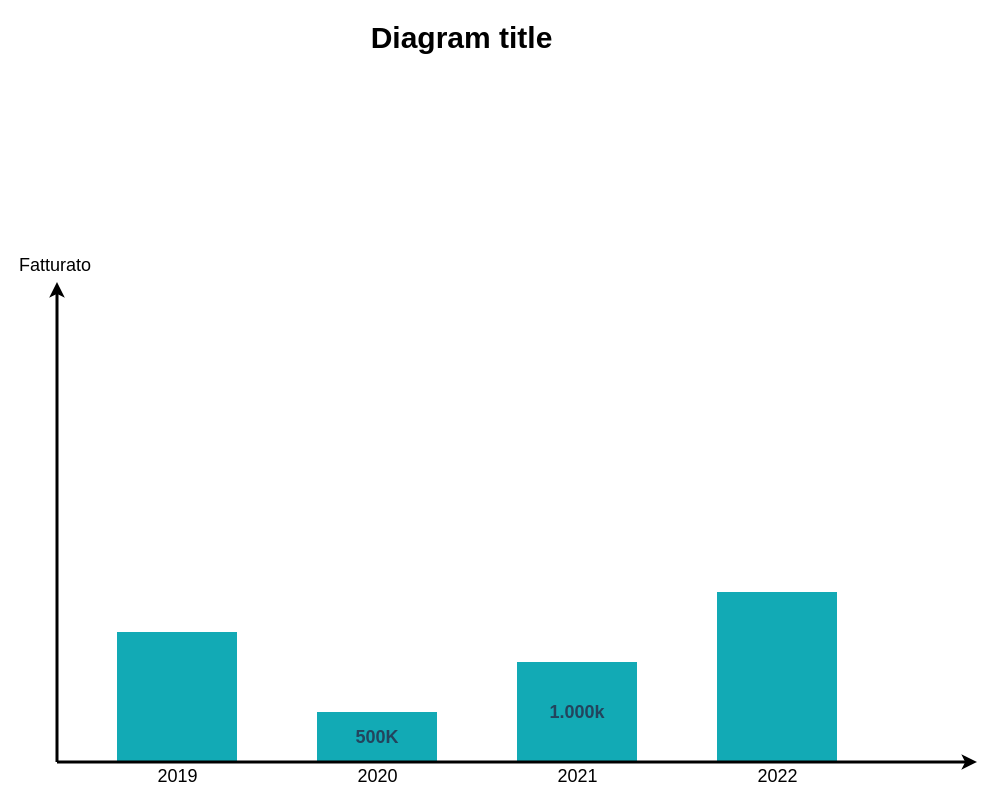
Some shapes in this 1004 by 811 pixel diagram are drawn without their labels. The centre of each missing label's shape, as x and y in pixels:
"1.200k" belongs at (x=176, y=697).
"1.500k" belongs at (x=776, y=677).
